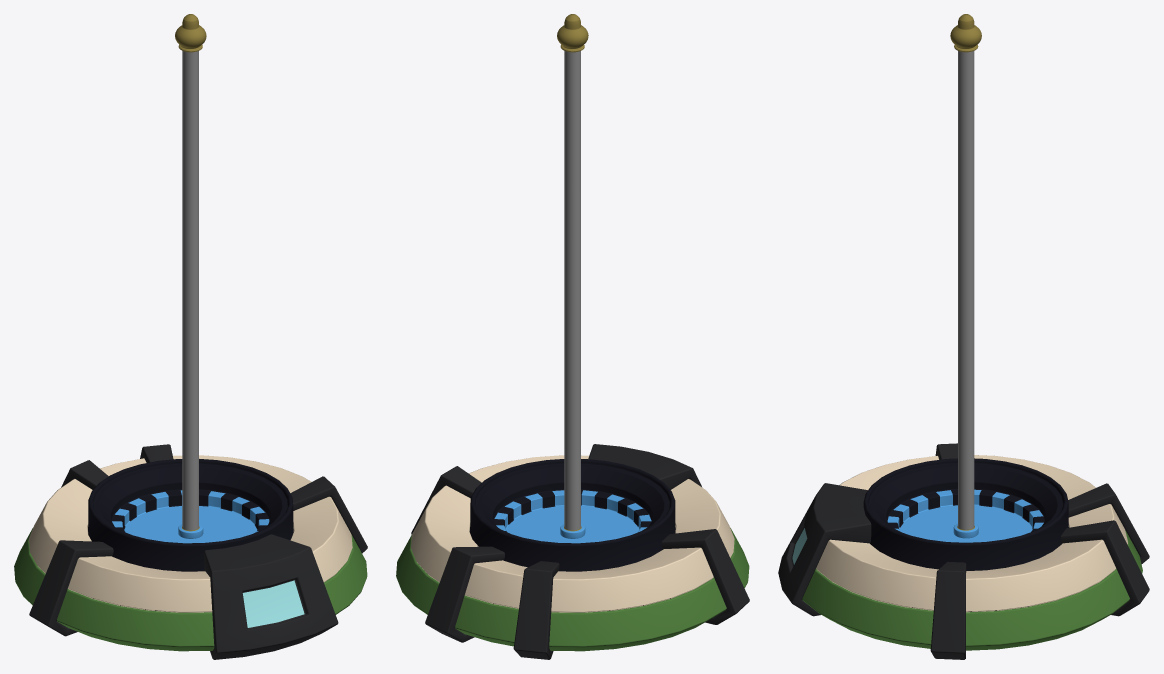
File: SM_Checkpoint_Console_01.fbx
The picture shows the model from 3 angles, left to right: view 1: azimuth 30°, elevation 25°; view 2: azimuth 150°, elevation 25°; view 3: azimuth 270°, elevation 25°; orthographic projection.
Parts seen in each view (by area): view 1: SM_Checkpoint_Console_01; view 2: SM_Checkpoint_Console_01; view 3: SM_Checkpoint_Console_01.
Part boxes in pixels (x1,y1,x2,y2): SM_Checkpoint_Console_01: [14, 14, 367, 659]; SM_Checkpoint_Console_01: [396, 14, 749, 659]; SM_Checkpoint_Console_01: [778, 14, 1149, 659].
Bounding box in the file's own units: 636 × 1077 × 630.
